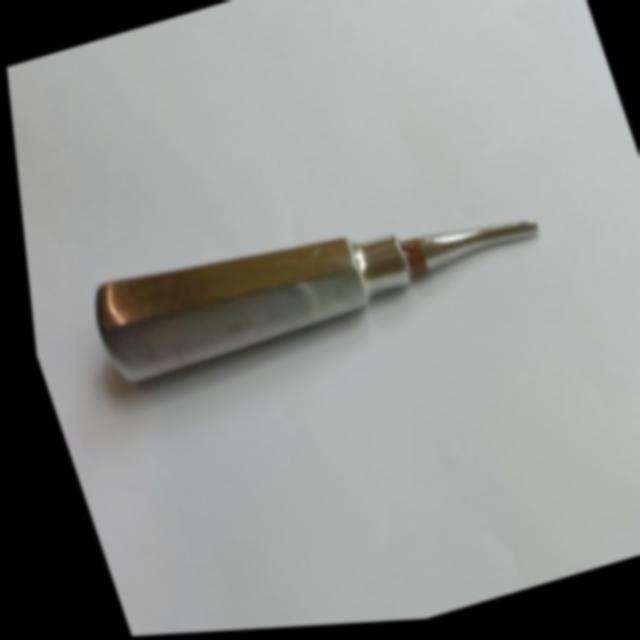Coupland1: (63, 155, 563, 402)
